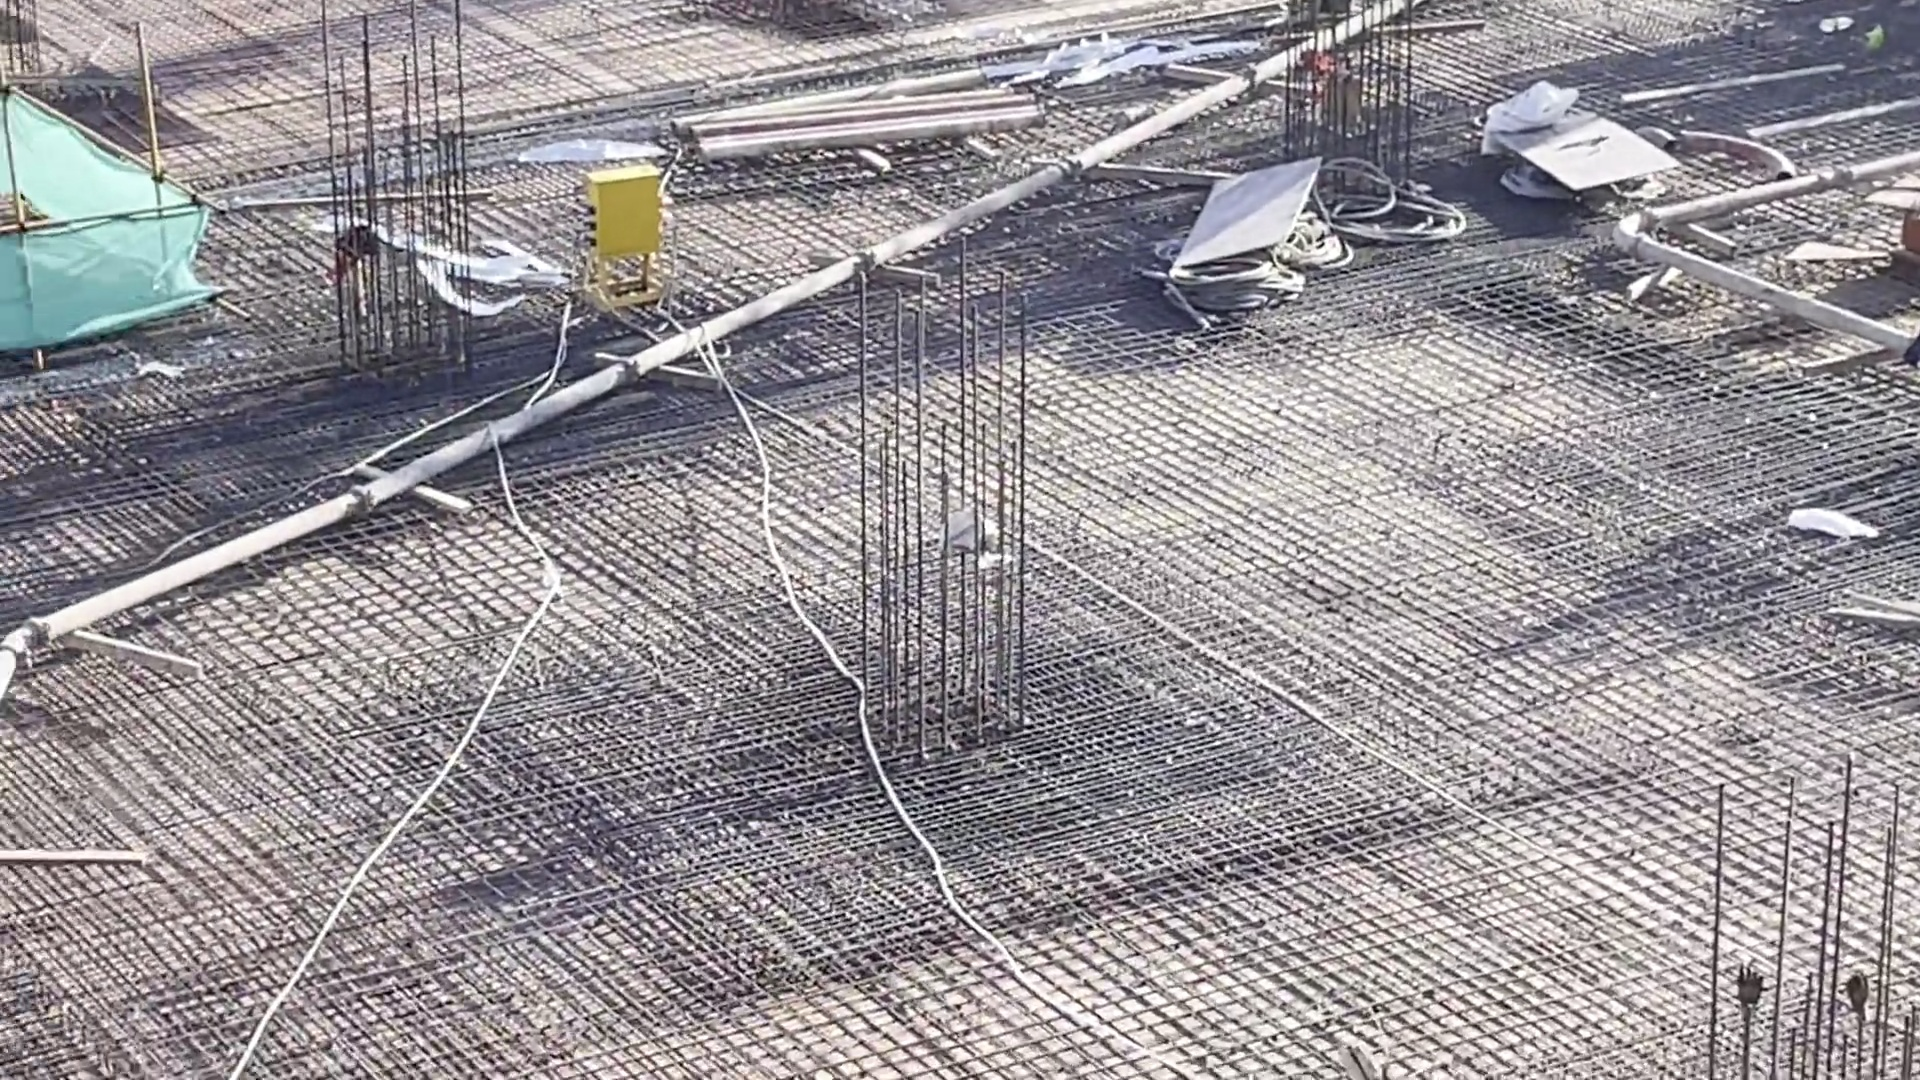ebox: (579, 175, 665, 262)
